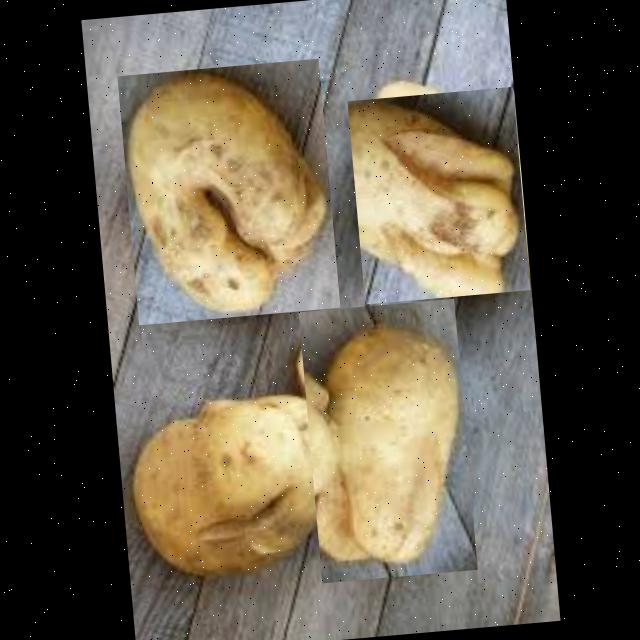Damaged potato: (116, 58, 339, 325), (298, 298, 477, 583), (125, 381, 355, 582), (346, 86, 529, 304)
